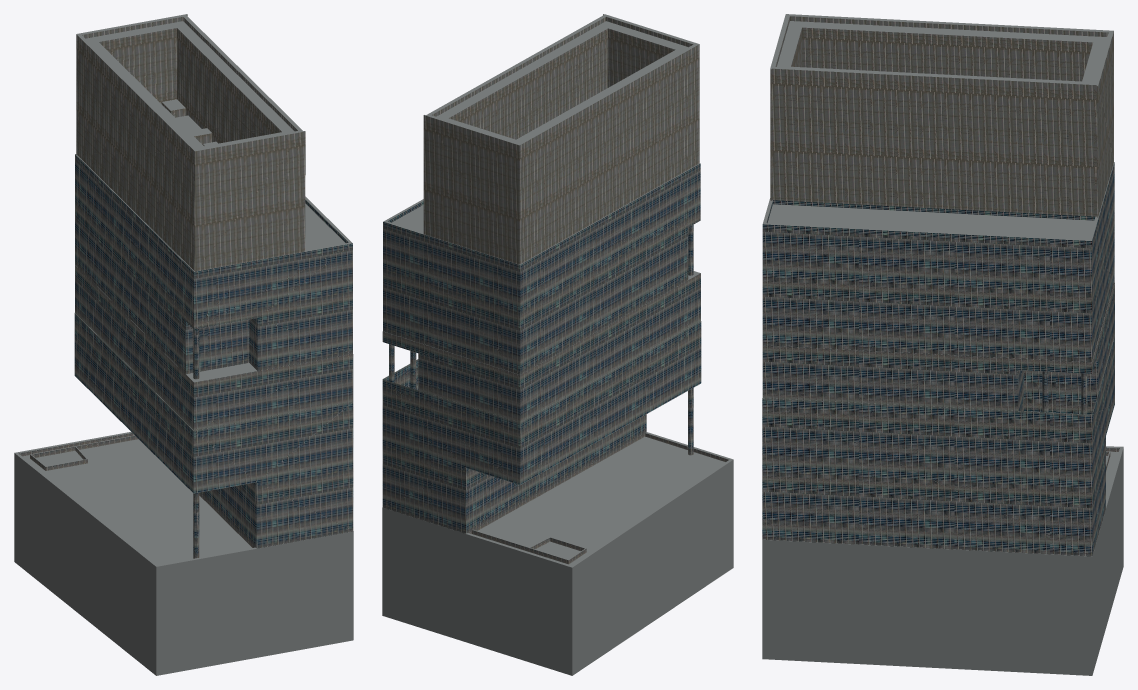
The picture shows the model from 3 angles, left to right: view 1: azimuth 30°, elevation 25°; view 2: azimuth 150°, elevation 25°; view 3: azimuth 270°, elevation 25°; orthographic projection. The views are drawn at different scales.
Visible parts, largest first — view 1: ONE GEORGE STREET; view 2: ONE GEORGE STREET; view 3: ONE GEORGE STREET.
Part boxes in pixels (x1,y1,x2,y2): ONE GEORGE STREET: (14,14,353,675); ONE GEORGE STREET: (382,14,733,675); ONE GEORGE STREET: (762,14,1123,675).
Bounding box in the file's own units: 62.94 × 144 × 83.35.
3 materials, 2 textured.
